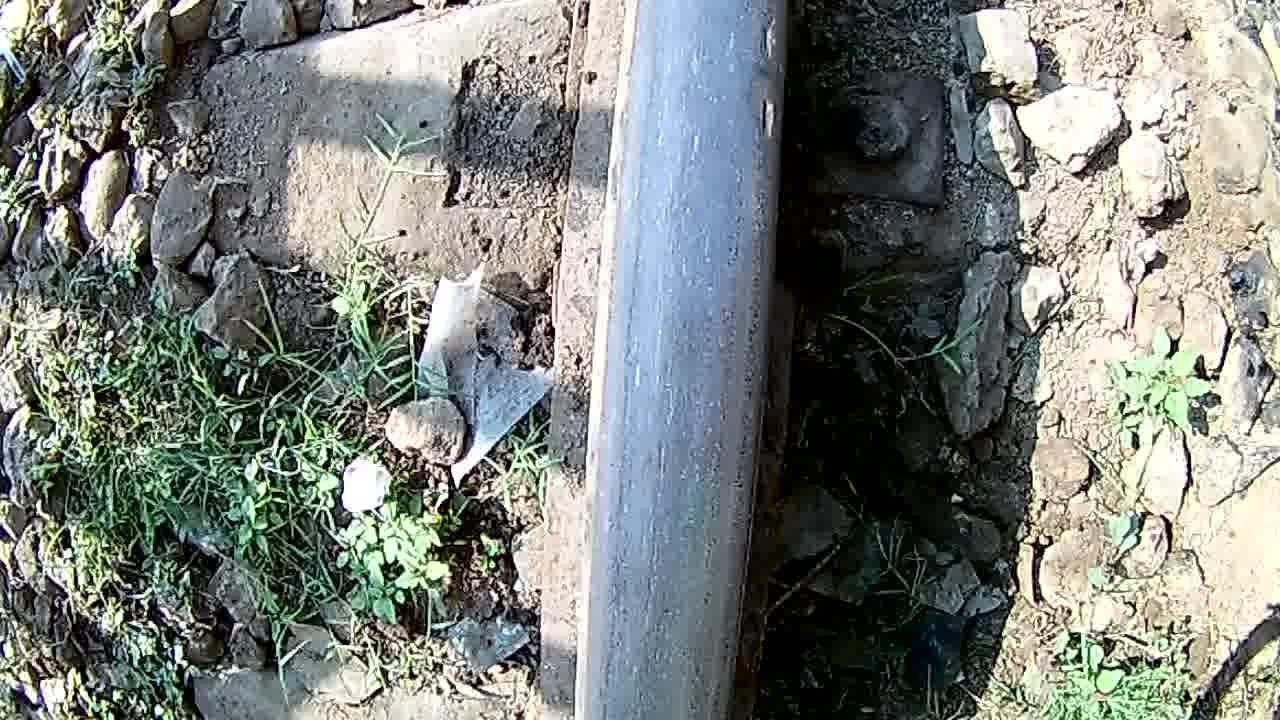crack: (568, 0, 792, 720)
